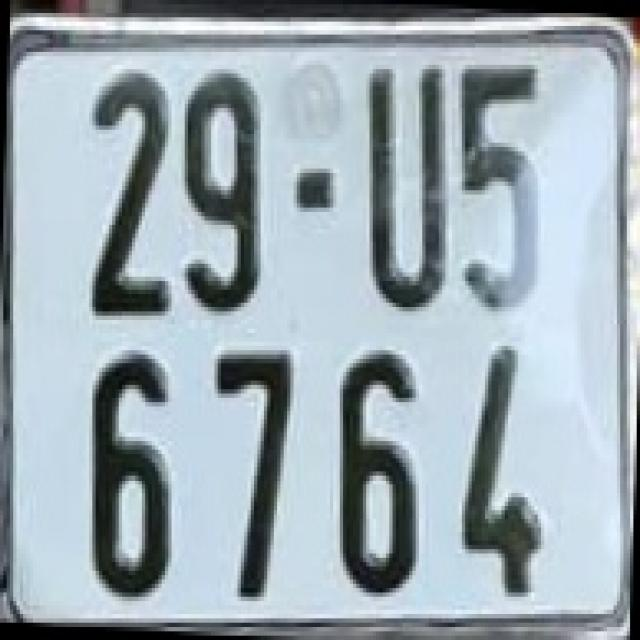2: (86, 65, 175, 320)
4: (458, 342, 548, 596)
5: (456, 56, 544, 312)
6: (333, 342, 422, 596), (86, 350, 175, 597)
7: (211, 346, 297, 597)
9: (178, 65, 267, 316)
U: (356, 56, 452, 316)
